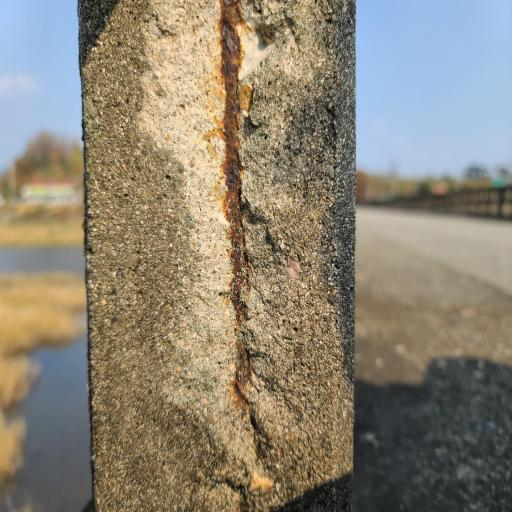exposed_rebar: (220, 0, 251, 403)
